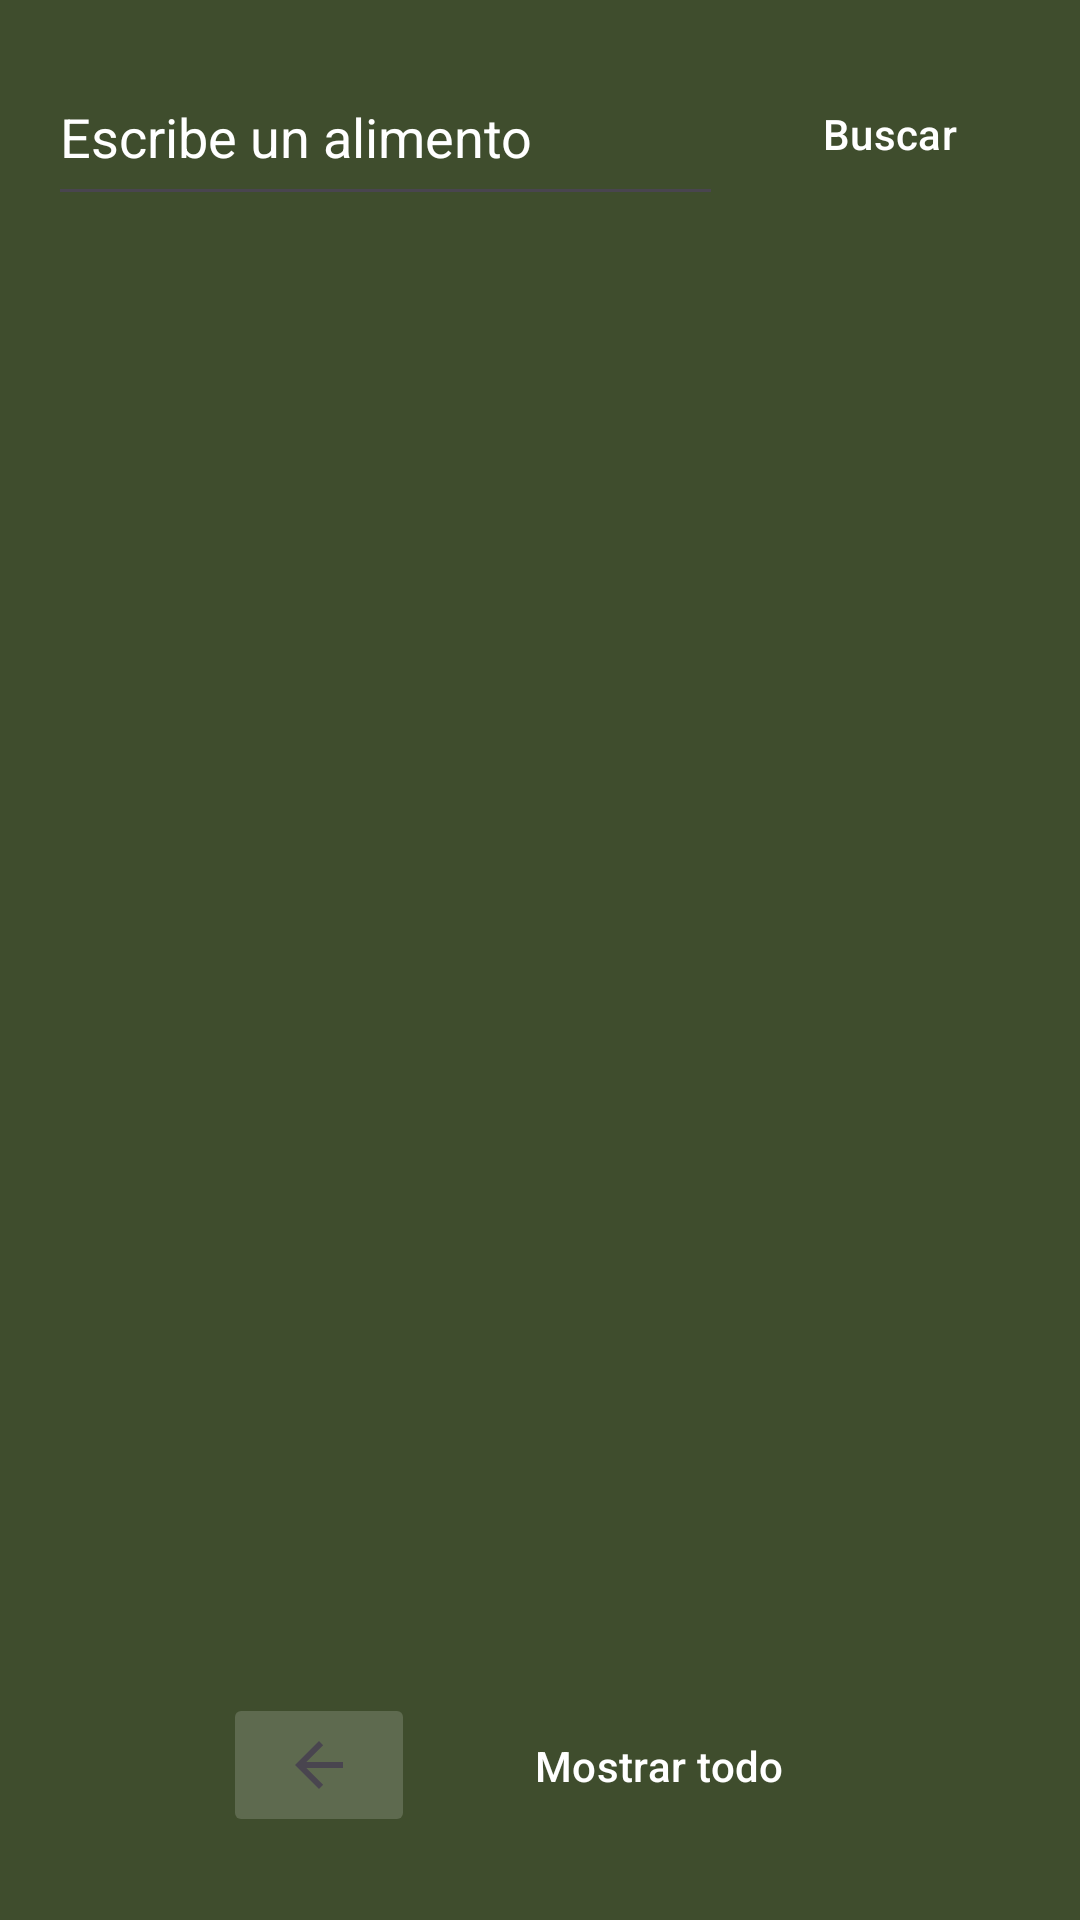

Locate icon controls on the screen. Image size 1080*1920, boxes as [x1,y1,x2,y2].
Botón para regresar: [235,1711,403,1819]
